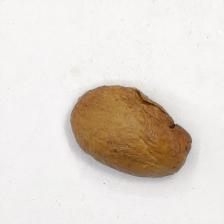NG: (127, 84, 192, 135)
